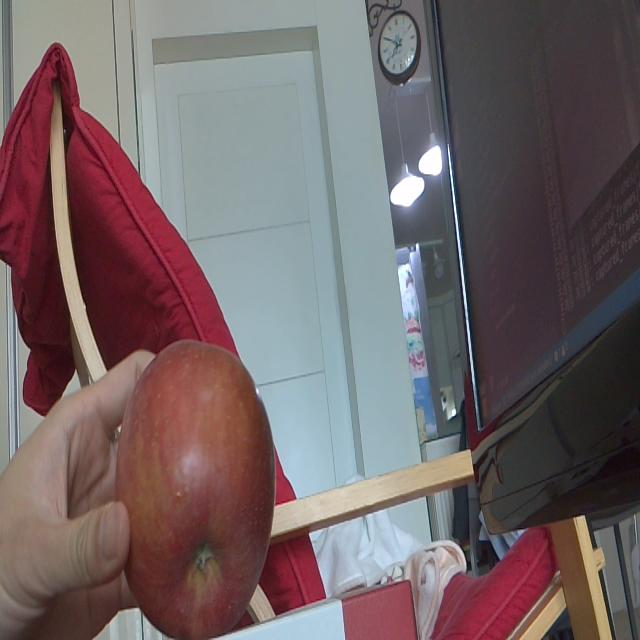apple: (116, 338, 278, 640)
